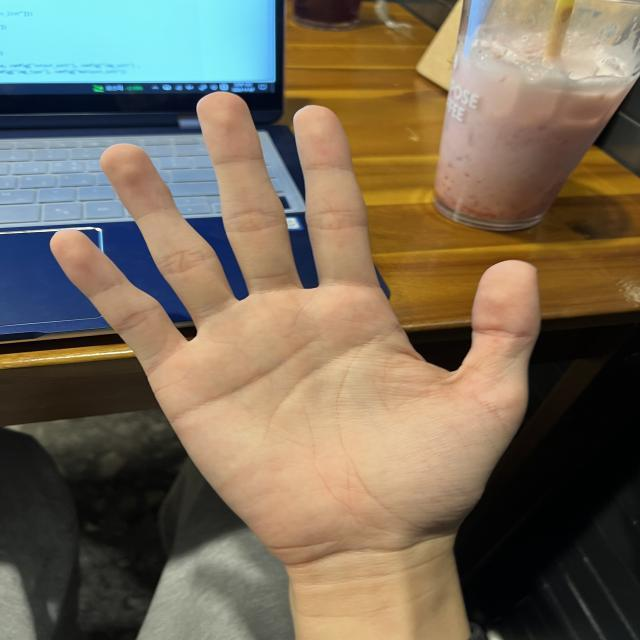no-gloves: (44, 87, 544, 636)
